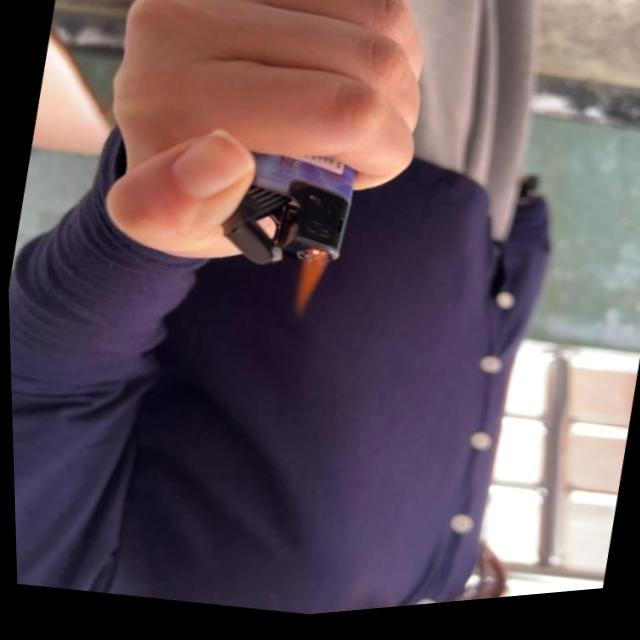fire: (284, 248, 332, 332)
